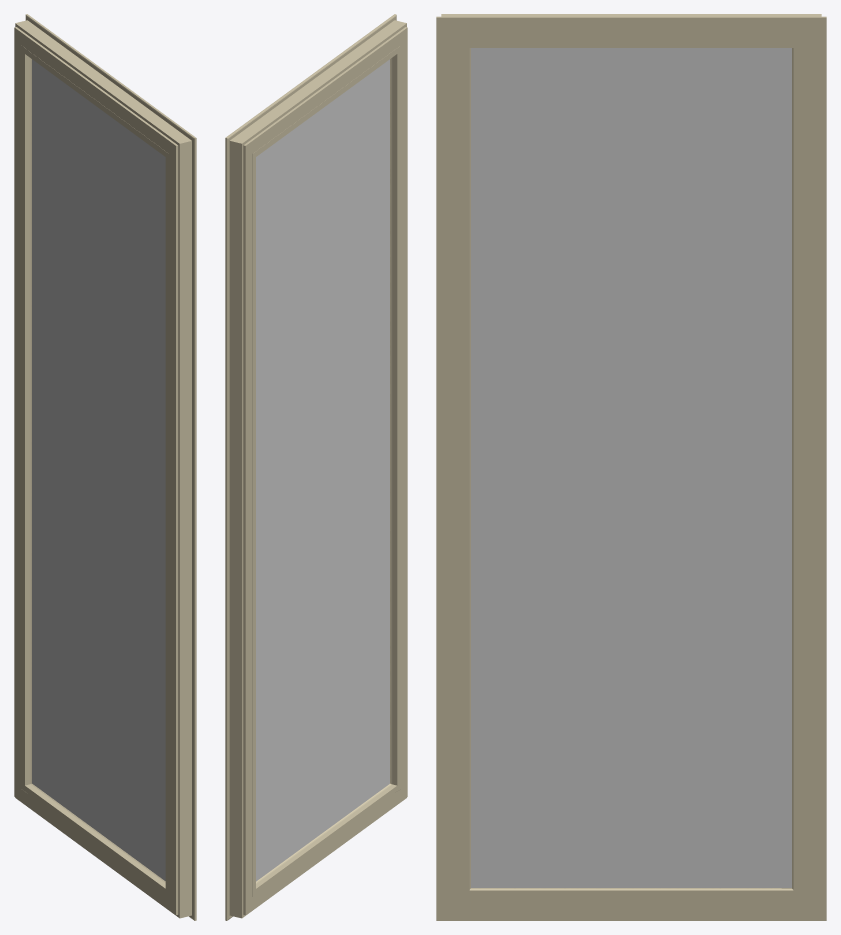
The model's file is MainDoor1bTransformed1.fbx.
3 views of the same model, side by side, from view 1: azimuth 30°, elevation 25°; view 2: azimuth 150°, elevation 25°; view 3: azimuth 270°, elevation 25° (orthographic). The views are drawn at different scales.
Visible parts, largest first — view 1: 45-25-28-344_- Aluminium Glazed Double Doors (02 & 10):EDT 1; view 2: 45-25-28-344_- Aluminium Glazed Double Doors (02 & 10):EDT 1; view 3: 45-25-28-344_- Aluminium Glazed Double Doors (02 & 10):EDT 1.
Boxes of the visible parts, x1,y1,x2,y2 form: 45-25-28-344_- Aluminium Glazed Double Doors (02 & 10):EDT 1: [14, 14, 196, 920]; 45-25-28-344_- Aluminium Glazed Double Doors (02 & 10):EDT 1: [225, 14, 407, 920]; 45-25-28-344_- Aluminium Glazed Double Doors (02 & 10):EDT 1: [436, 14, 826, 920].
Bounding box in the file's own units: 0.0658 × 2.91 × 1.14.
